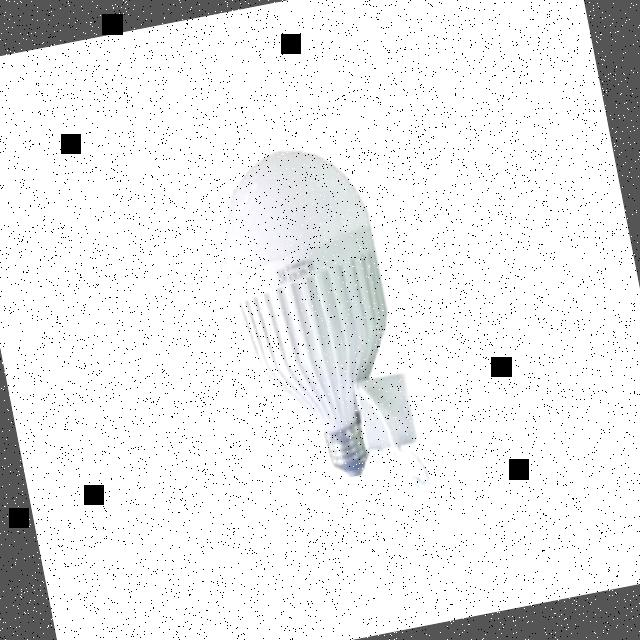light_bulb: (184, 109, 474, 534)
